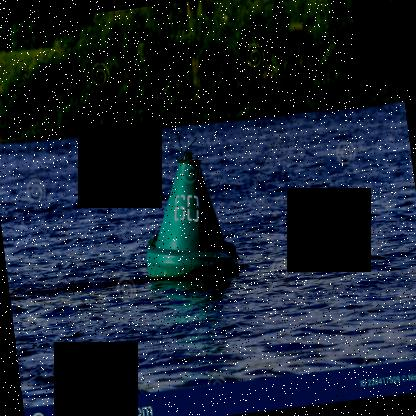Buoy: (126, 138, 244, 288)
